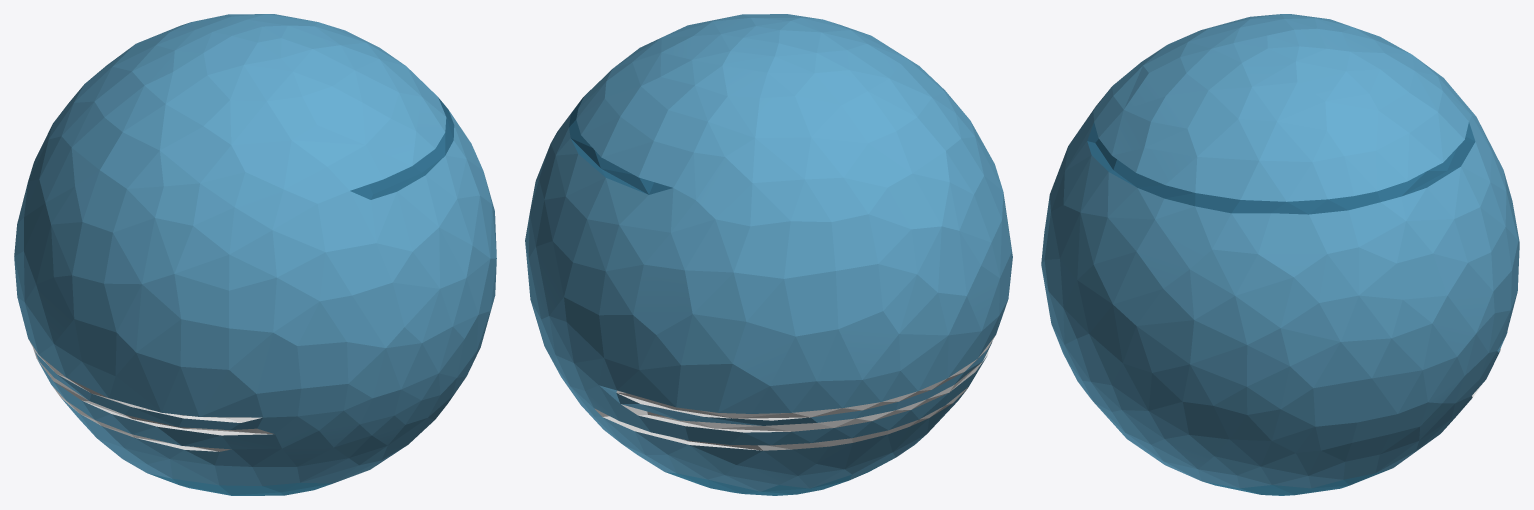
The model's file is Water_Planet_01.fbx.
3 views of the same model, side by side, from view 1: azimuth 30°, elevation 25°; view 2: azimuth 150°, elevation 25°; view 3: azimuth 270°, elevation 25° (orthographic).
Parts seen in each view (by area): view 1: Water_Planet_01; view 2: Water_Planet_01; view 3: Water_Planet_01.
Part boxes in pixels (bbox=[...]): Water_Planet_01: bbox=[14, 14, 496, 495]; Water_Planet_01: bbox=[525, 14, 1012, 495]; Water_Planet_01: bbox=[1041, 14, 1519, 495].
Bounding box in the file's own units: 18173 × 18161 × 18122.
Materials: 1 (1 with a texture image).
